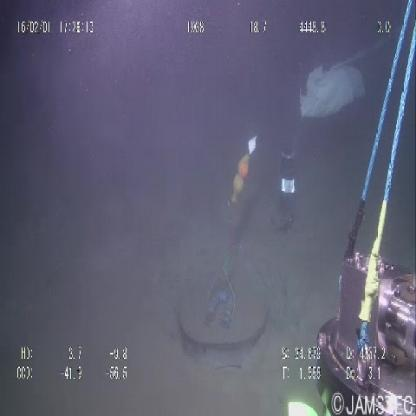Rov: (172, 126, 416, 414)
Rác: (295, 52, 368, 127)
